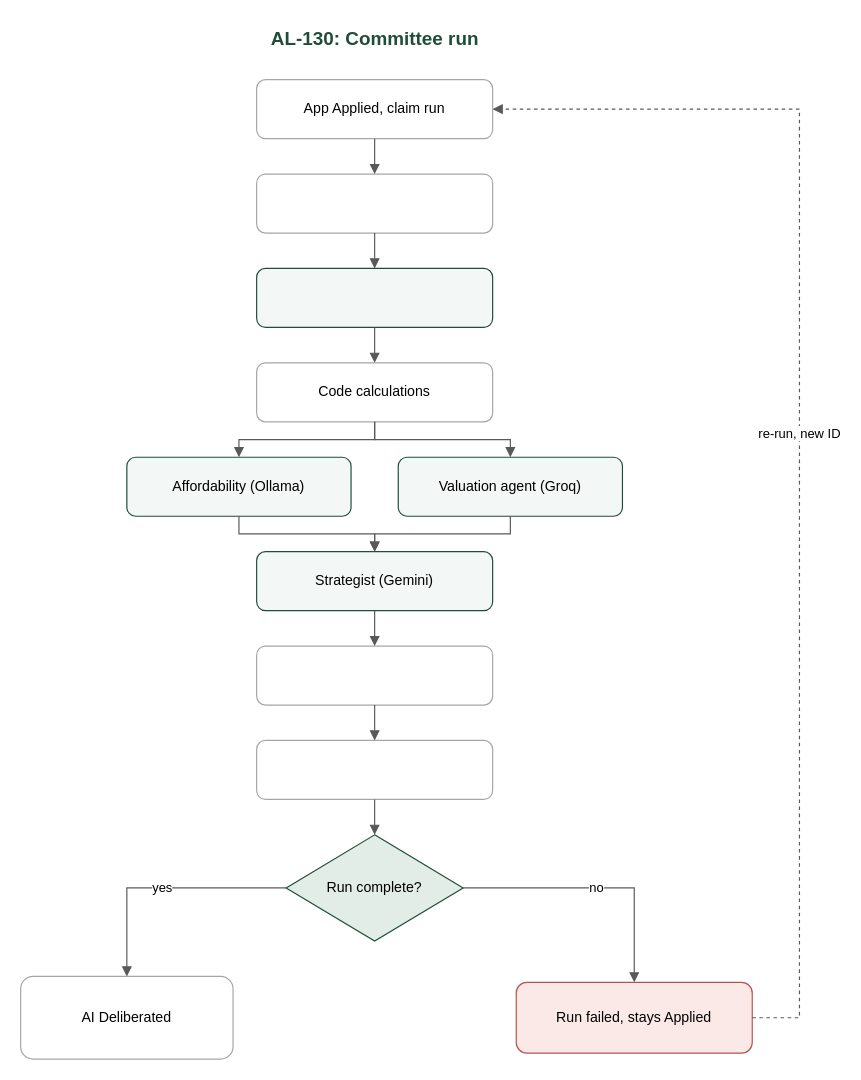
The diagram is 861 pixels wide and 1080 high, and some of its shapes have lost their labels. The centre of each missing label's shape, as x and y in pixels:
Market agent (Gemini): pixel 374 297
Policy gate: pixel 374 675
Save run record: pixel 374 769
Validate and value home: pixel 374 203
